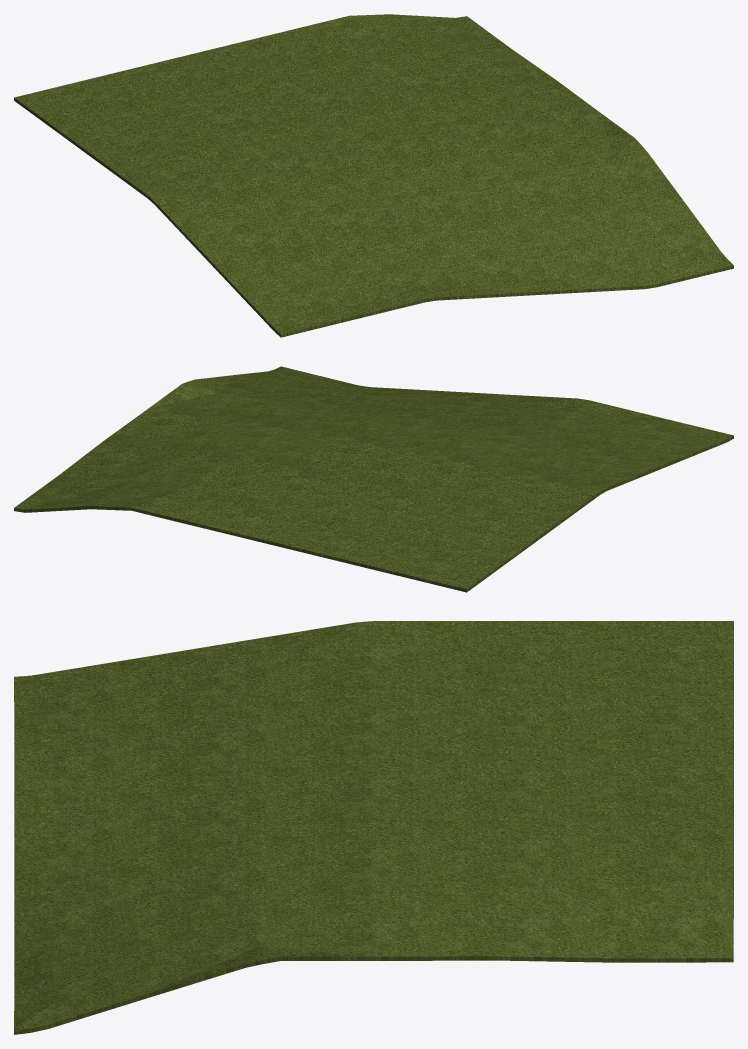
Rendered from land_04_sfw.obj.
3 renders of one model, top to bottom at view 1: azimuth 30°, elevation 25°; view 2: azimuth 150°, elevation 25°; view 3: azimuth 270°, elevation 25°, orthographic. The views are drawn at different scales.
Parts seen in each view (by area): view 1: land_04_sfw; view 2: land_04_sfw; view 3: land_04_sfw.
Boxes of the visible parts, x1=… form: land_04_sfw: x1=14, y1=14, x2=733, y2=337; land_04_sfw: x1=14, y1=366, x2=733, y2=592; land_04_sfw: x1=14, y1=621, x2=733, y2=1034.
Bounding box in the file's own units: 118 × 21.34 × 120.
1 material, 1 textured.
